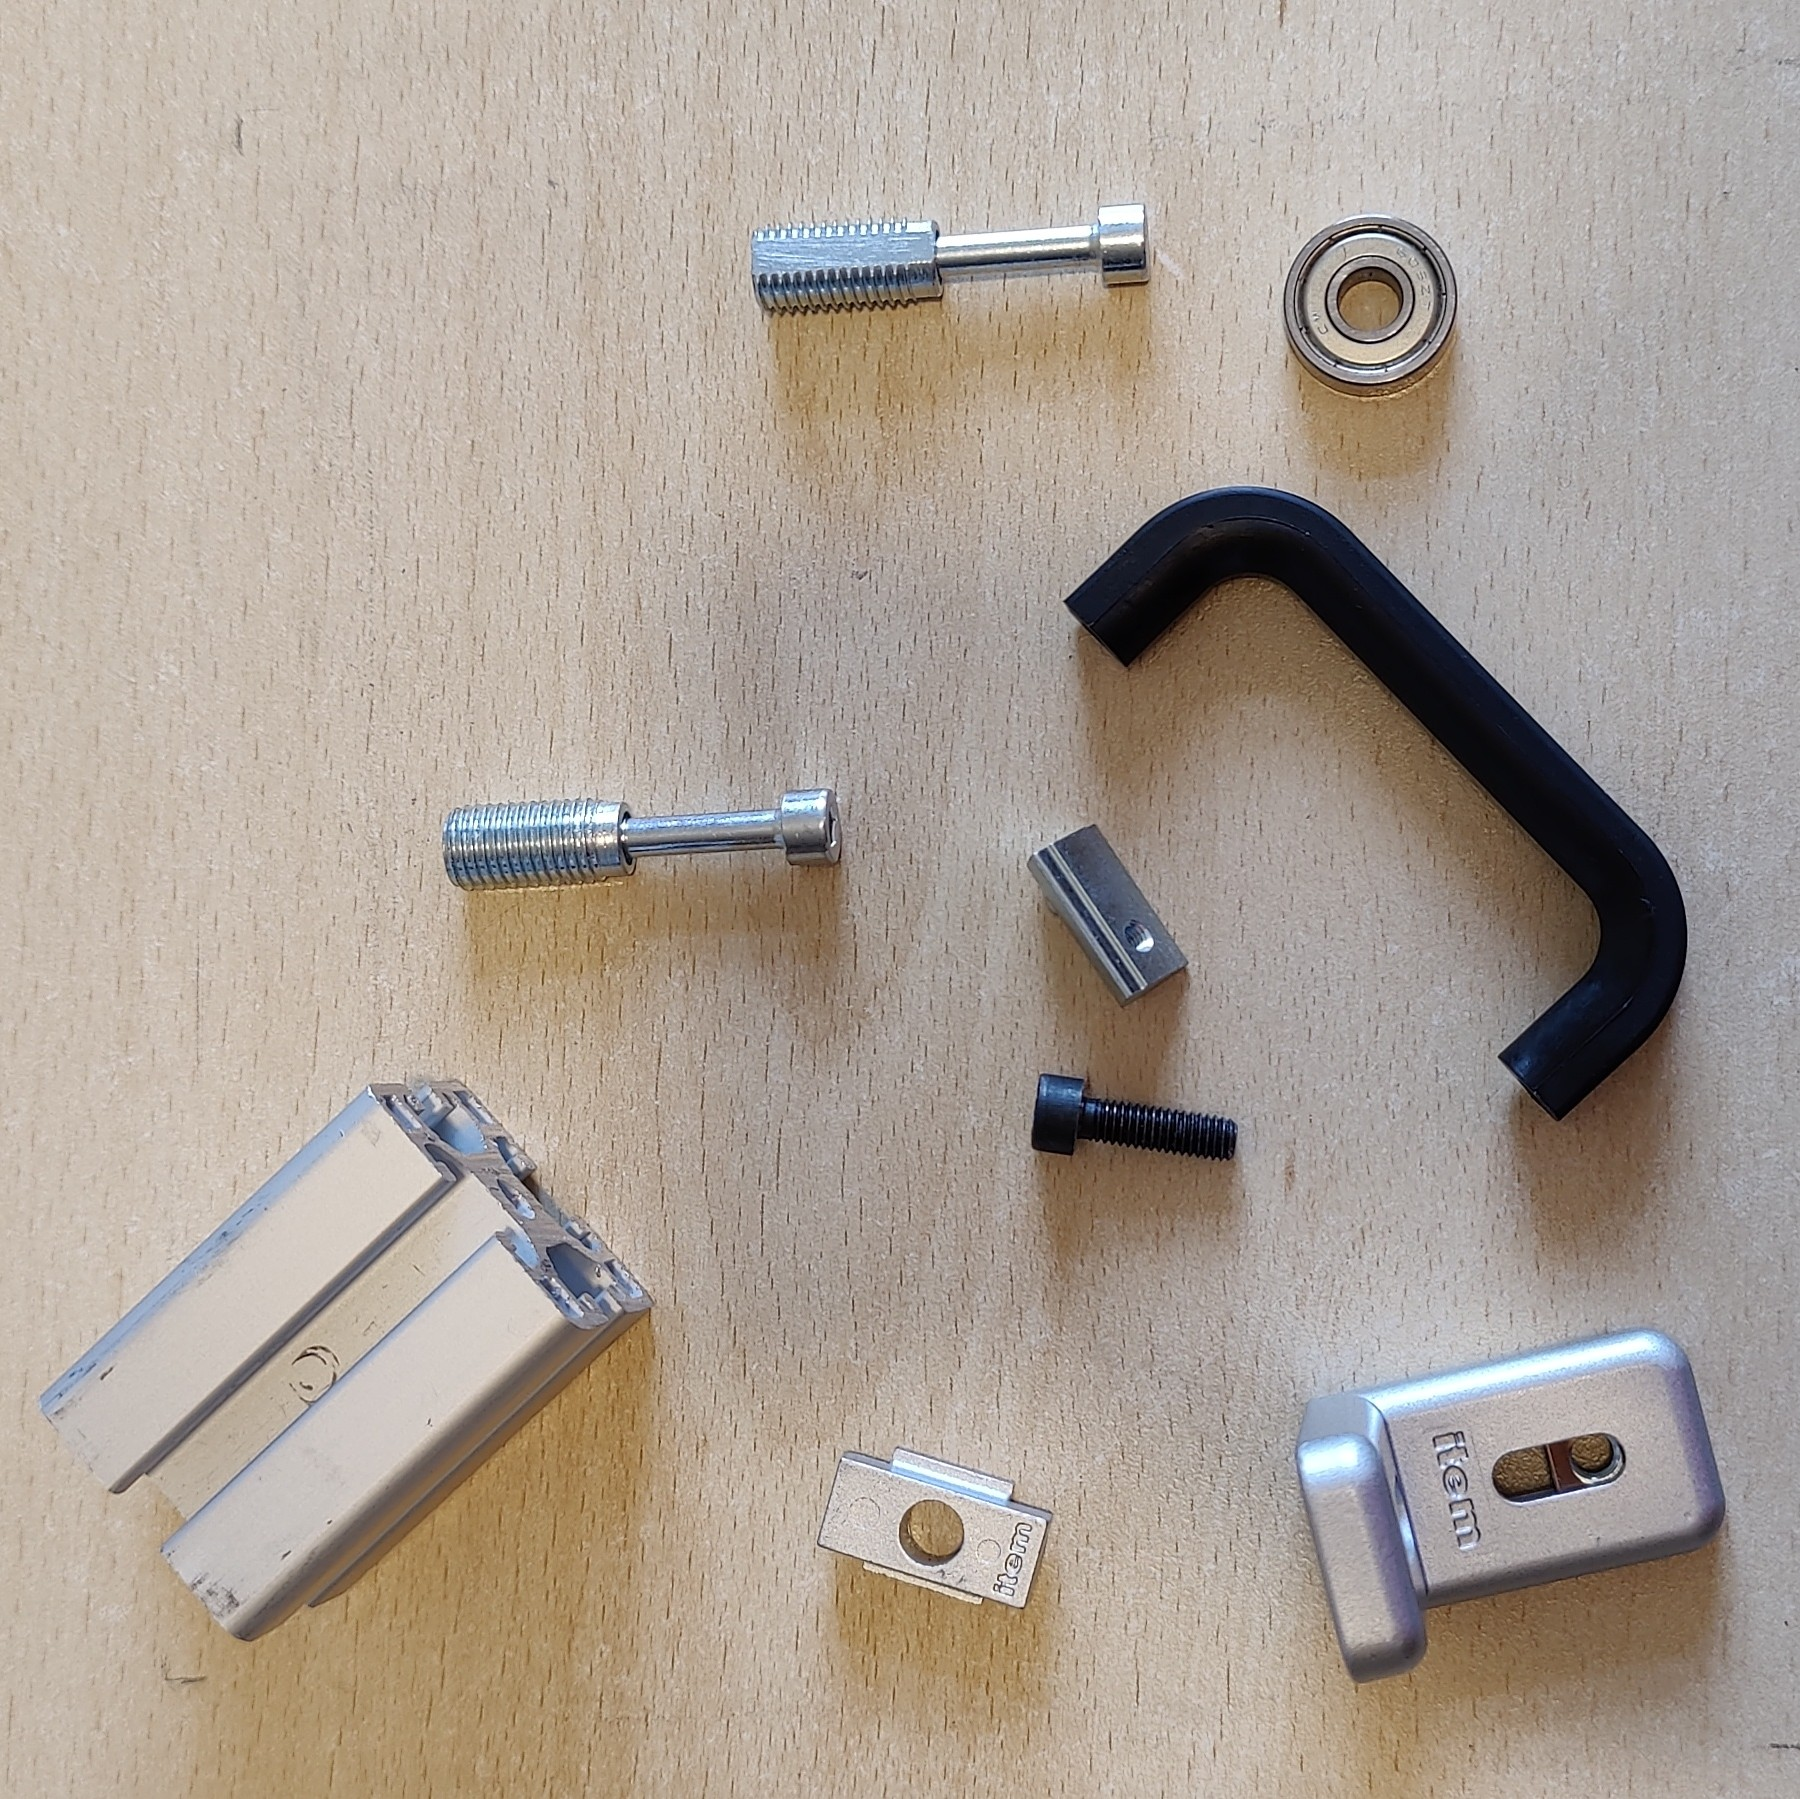Aluminium Extension: (38, 1072, 655, 1646)
Ball Bearing: (1281, 213, 1462, 399)
Multiwinkel: (1289, 1323, 1728, 1687)
Pull Handle: (1056, 483, 1690, 1125)
Shoulder Socket Head Cap Screw: (748, 199, 1154, 318), (440, 781, 846, 895)
Socket Head Cap Screw: (1028, 1069, 1240, 1165)
T Nut Square: (815, 1445, 1056, 1614)
T Spring Nut: (1023, 819, 1191, 1010)
